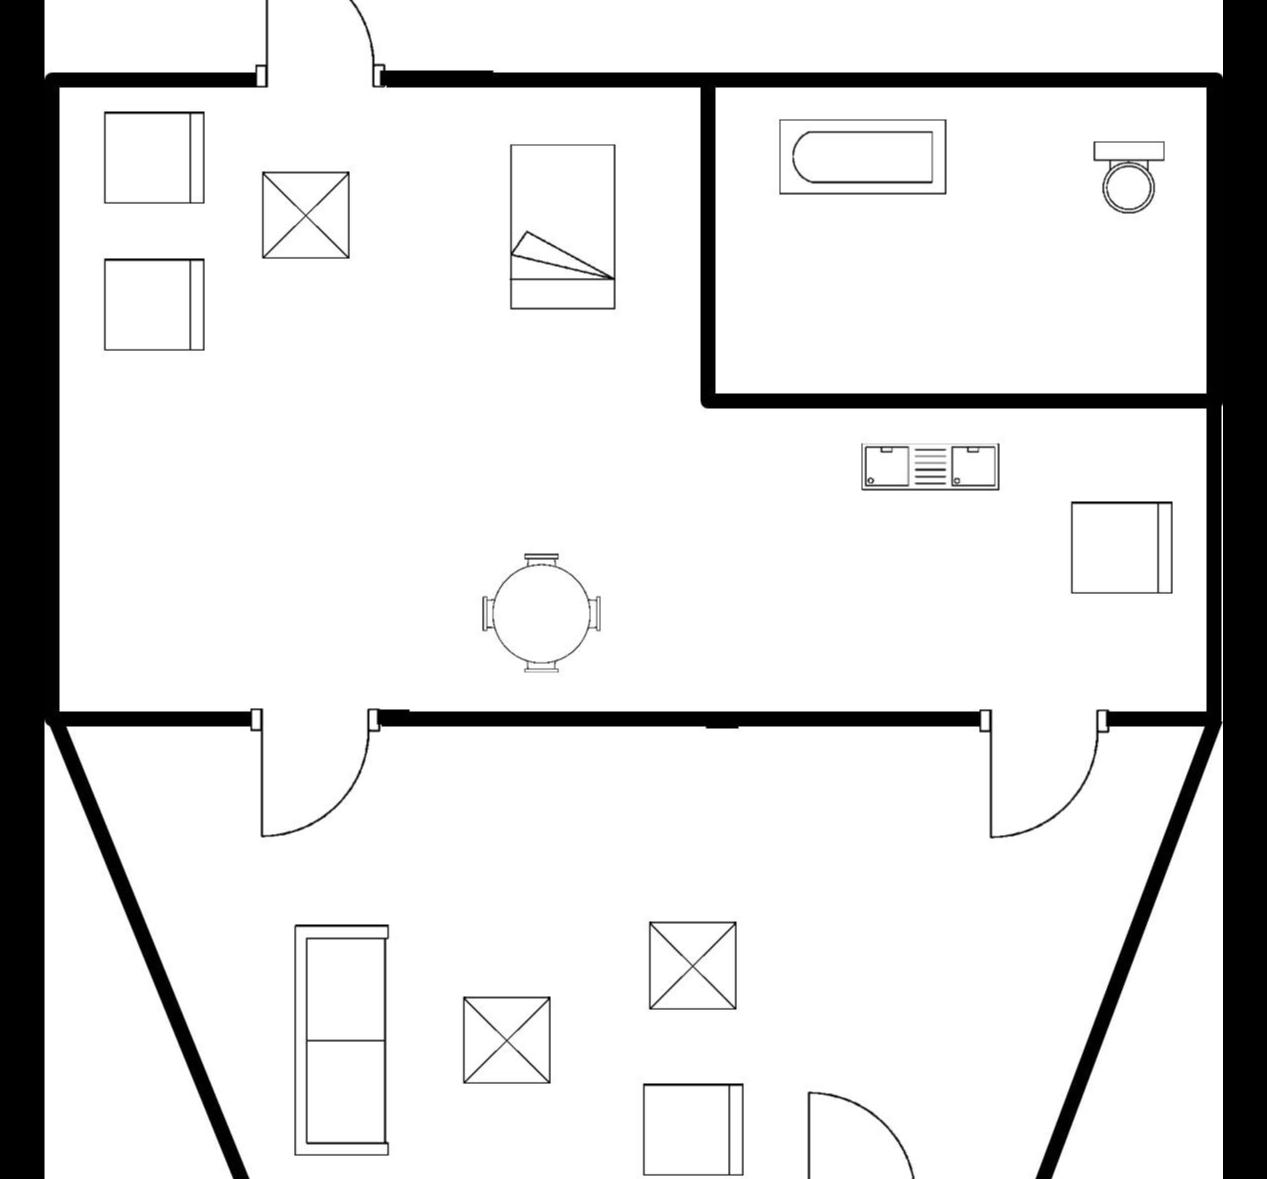sink: (850, 433, 1008, 501)
